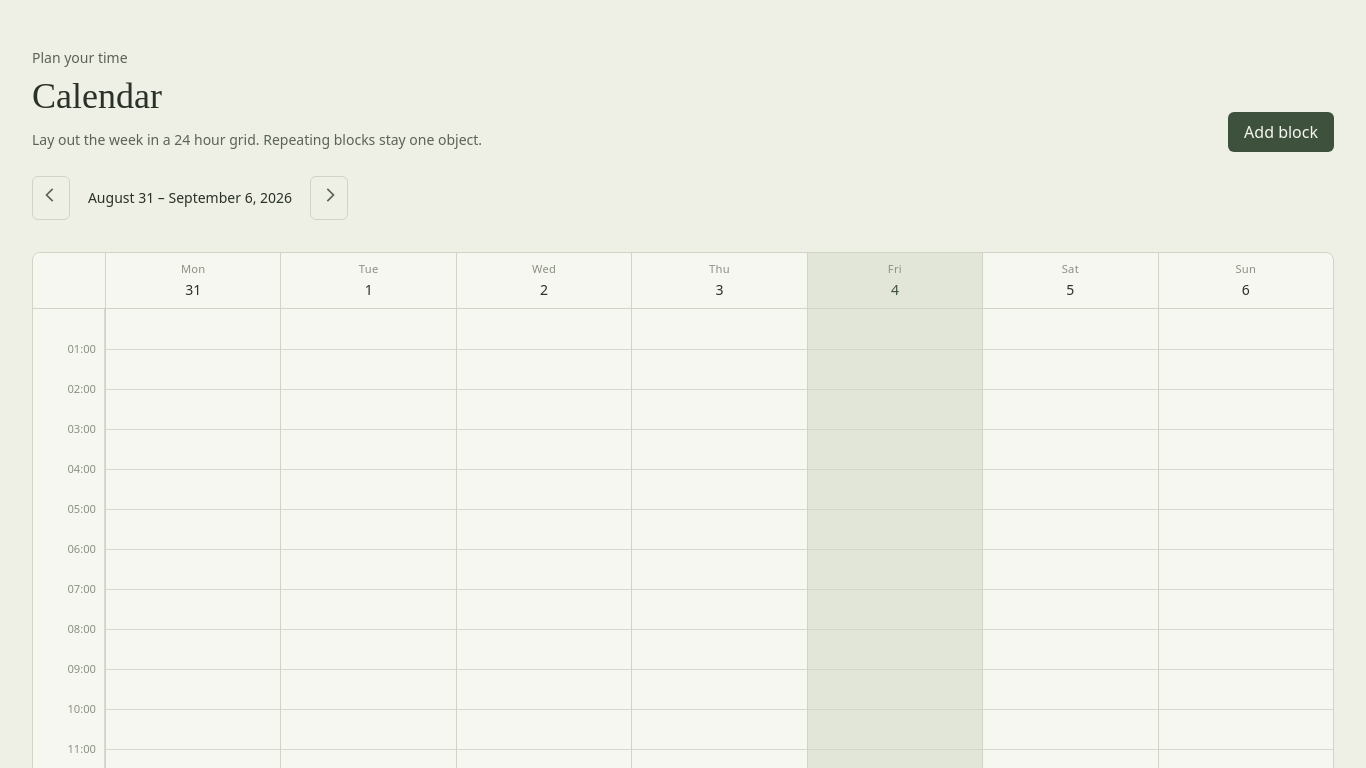
Test: CalendarPage › creates a block from a day heading
Click the button "Mon 31": click(193, 281) [105,253,280,309]
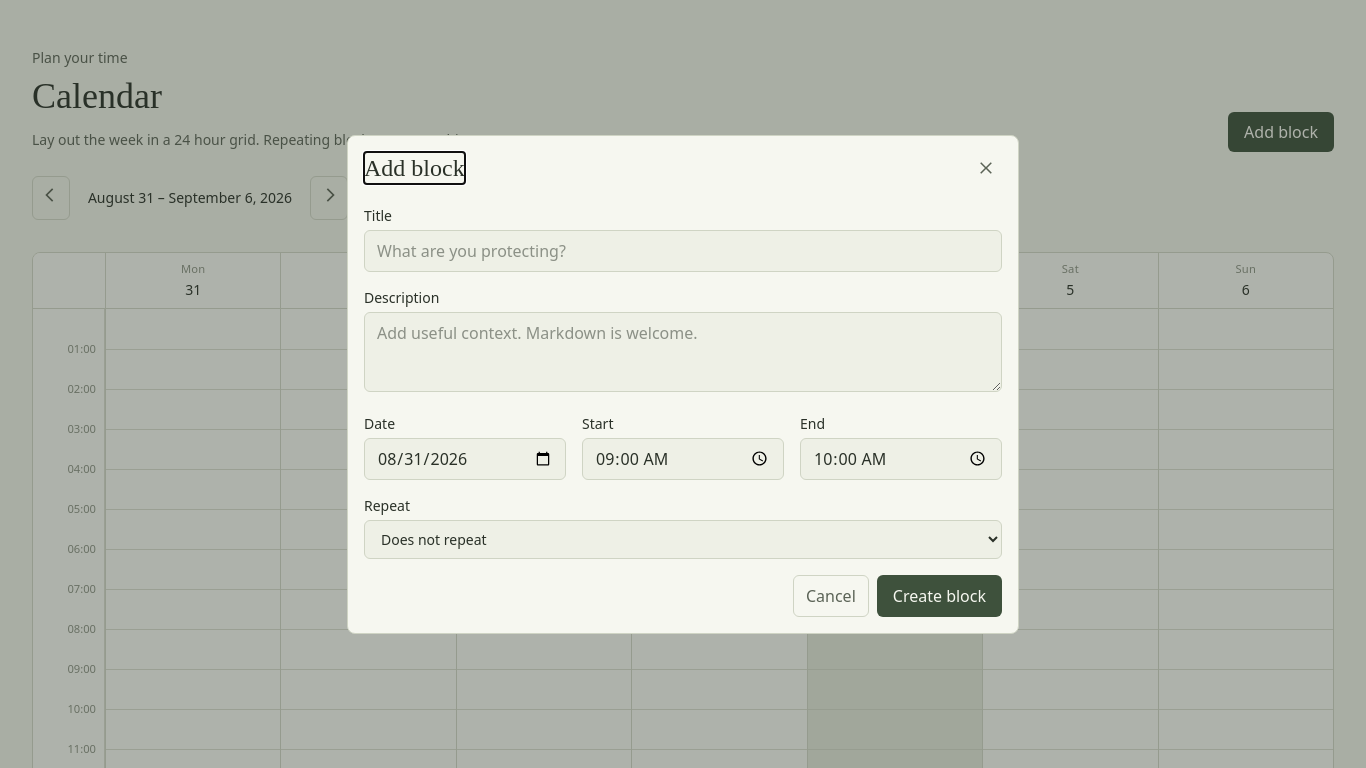
Expected: the dialog "Add block" is shown, [347,134,1019,634]
Expected: the date field labelled "Date" holds "2026-08-31", [364,438,566,480]
In the field labelled "Title": (683, 250) [364,230,1002,272], type "Writing"
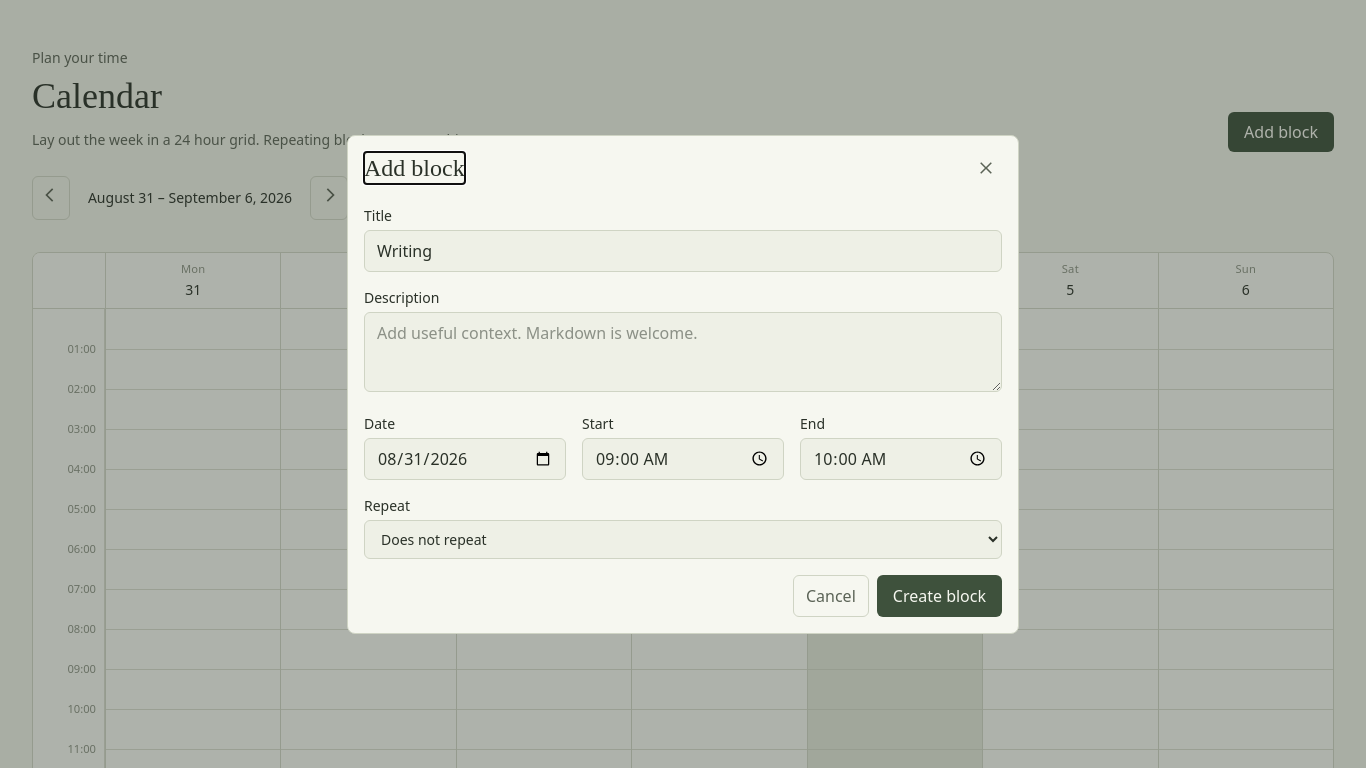
Click the button "Create block": click(939, 596) [877,574,1002,616]
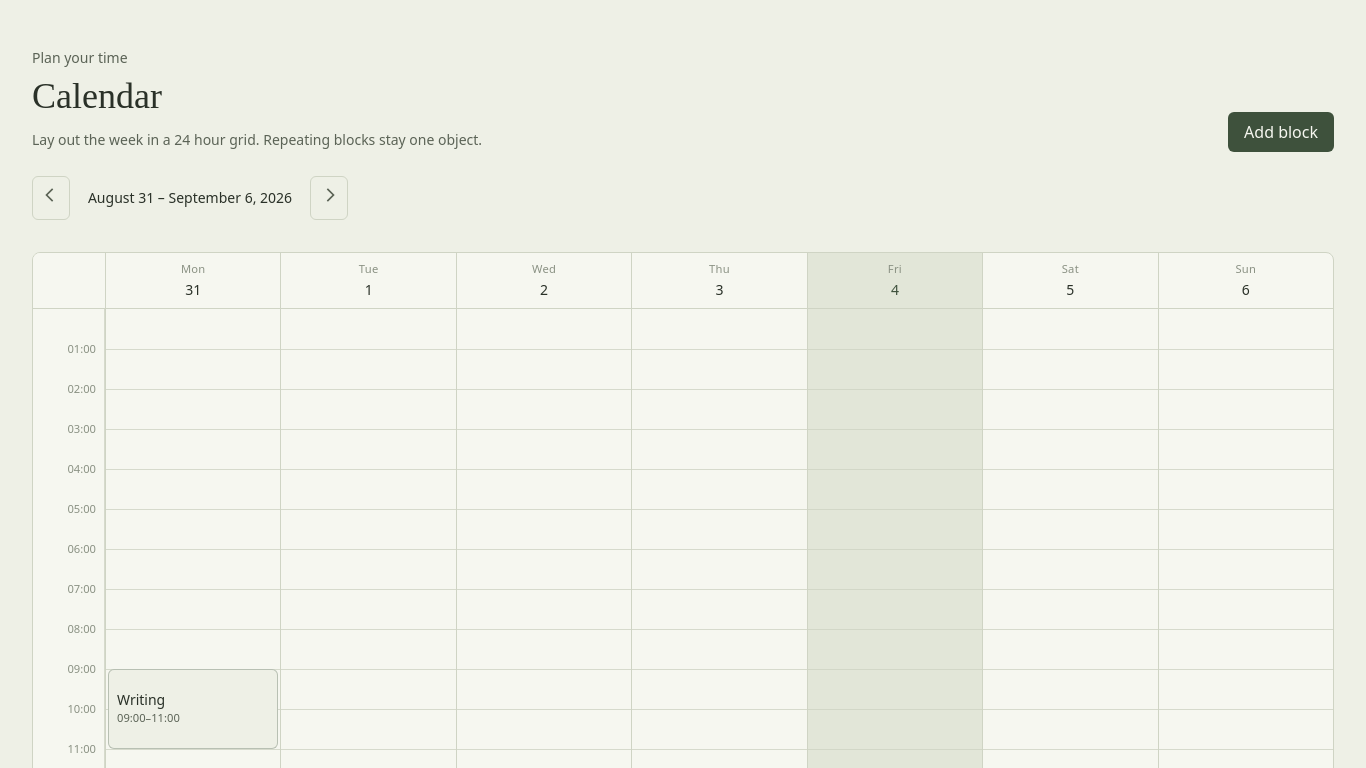
Expected: the button with aria-label "Writing, 09:00–11:00" is shown, [108,669,278,749]
